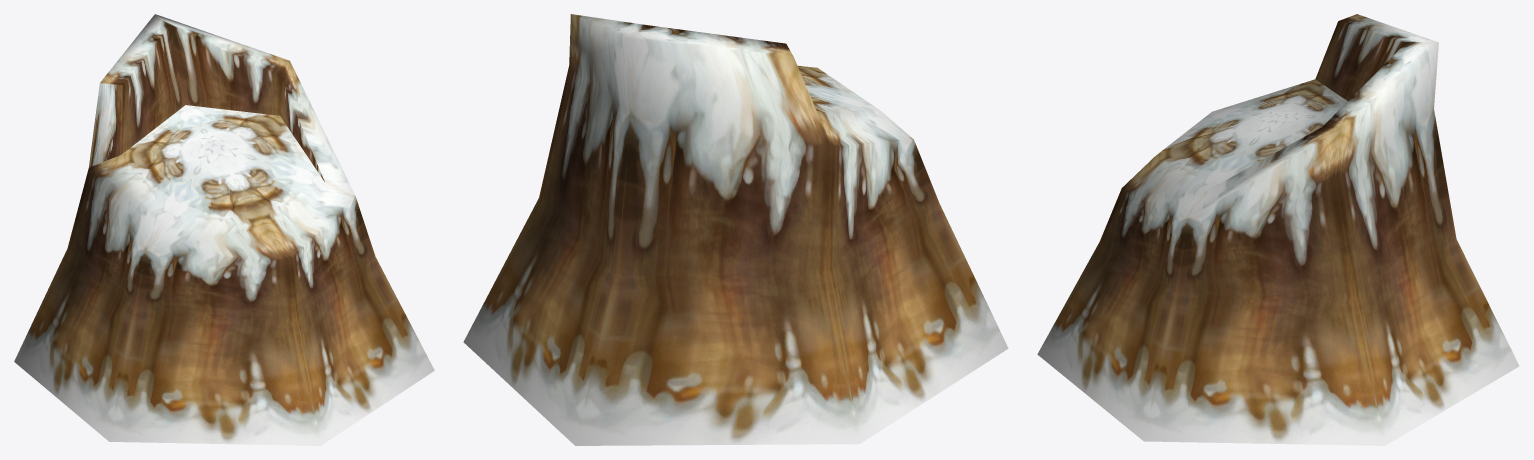
Rendered from ironstump04.obj.
3 renders of one model, left to right at view 1: azimuth 30°, elevation 25°; view 2: azimuth 150°, elevation 25°; view 3: azimuth 270°, elevation 25°, orthographic. The views are drawn at different scales.
Visible parts, largest first — view 1: ironstump04; view 2: ironstump04; view 3: ironstump04.
Boxes of the visible parts, x1=… form: ironstump04: x1=14, y1=14, x2=434, y2=445; ironstump04: x1=463, y1=14, x2=1008, y2=445; ironstump04: x1=1037, y1=14, x2=1519, y2=445.
Size of the model in its own units: 9.39 by 8.09 by 11.
1 material, 1 textured.
